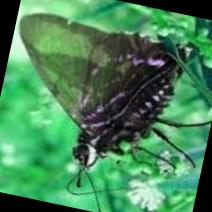butterfly: (19, 15, 178, 167)
